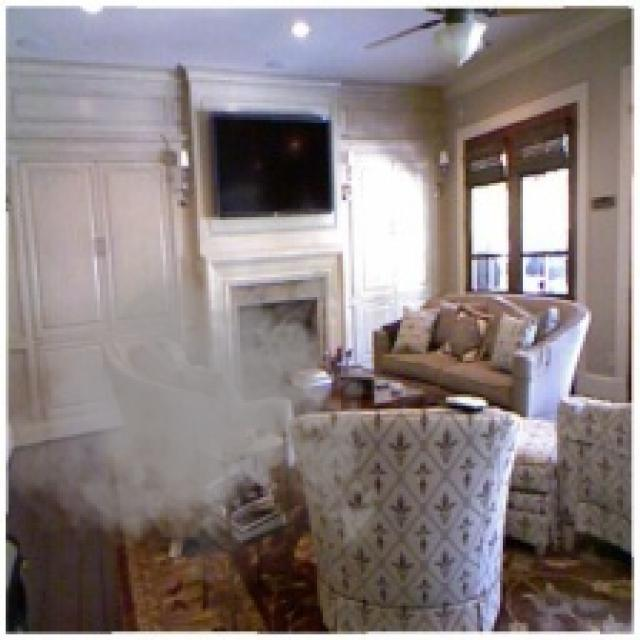Smoke: (0, 206, 389, 603)
